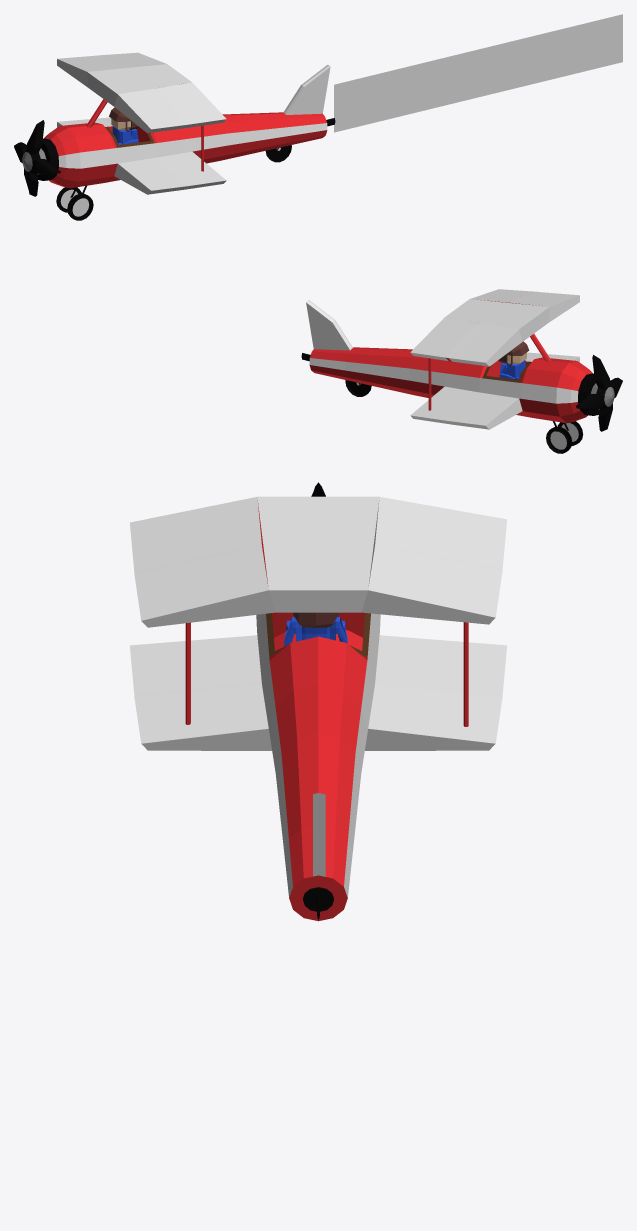
File: toy_plane_3.glb
The picture shows the model from 3 angles, top to bottom: view 1: azimuth 30°, elevation 25°; view 2: azimuth 150°, elevation 25°; view 3: azimuth 270°, elevation 25°; orthographic projection. The views are drawn at different scales.
Visible parts, largest first — view 1: Plane, Banner, Pilot; view 2: Plane, Pilot; view 3: Plane, Pilot.
Part boxes in pixels (bbox=[...]): Plane: bbox=[14, 52, 335, 220]; Banner: bbox=[334, 14, 622, 132]; Pilot: bbox=[111, 118, 138, 144]; Plane: bbox=[301, 289, 622, 453]; Pilot: bbox=[499, 352, 526, 379]; Plane: bbox=[130, 482, 506, 921]; Pilot: bbox=[284, 617, 347, 646].
Size of the model in its own units: 26.14 by 5.2 by 7.13.
